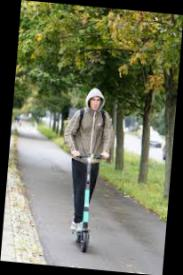nonhelmet: (56, 84, 120, 254)
